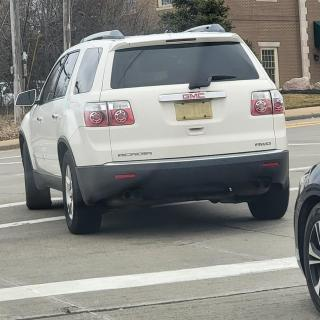license: (175, 100, 214, 121)
